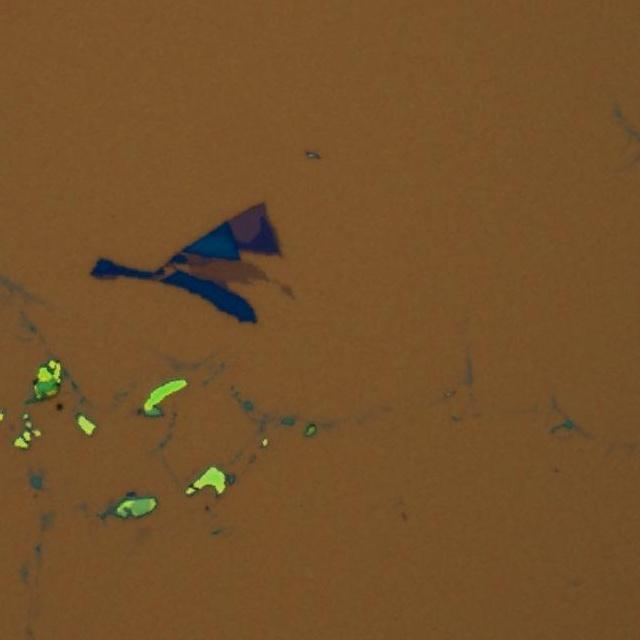monolayer-eWW4: (186, 254, 274, 286)
